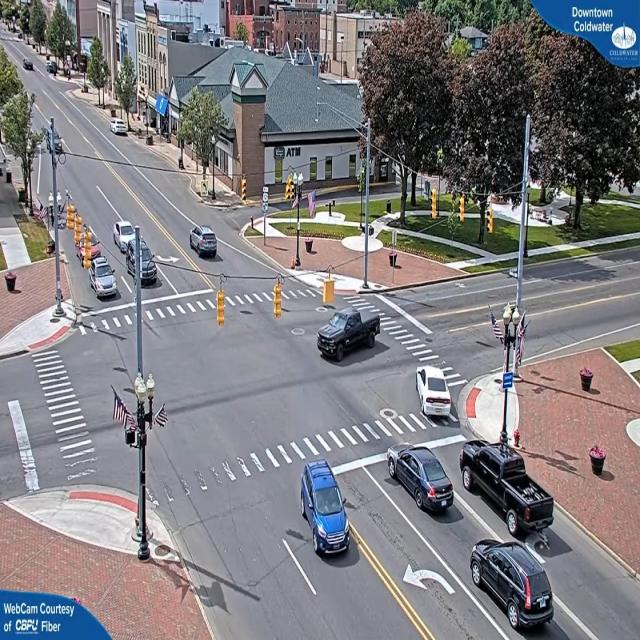car: (458, 440, 556, 540), (472, 540, 555, 634), (387, 443, 457, 514), (300, 459, 350, 556), (317, 305, 380, 363), (416, 369, 456, 420), (90, 259, 118, 300), (190, 225, 217, 259), (111, 121, 128, 136)
